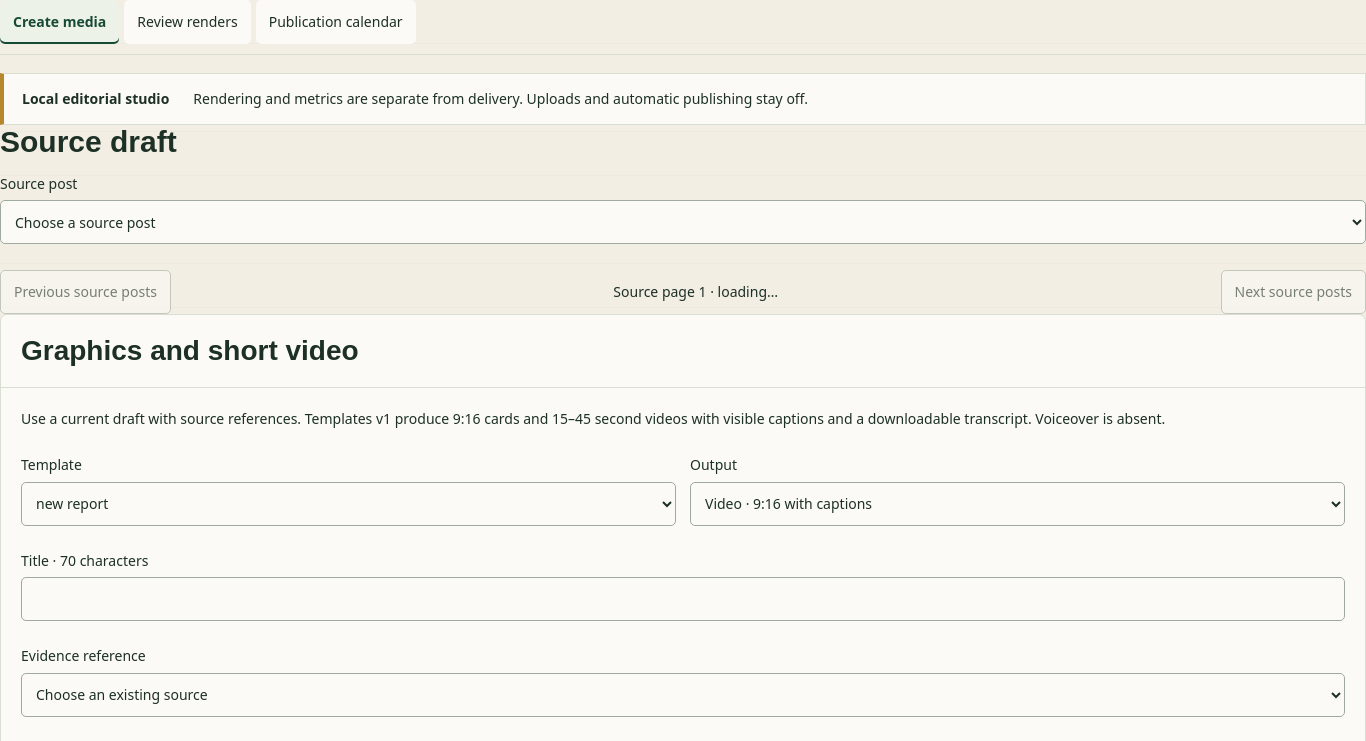
Test: independent: wrong hash, mime and non-ready asset excluded
Click the button "Review renders". click: (188, 22)
box: [124,0,251,44]
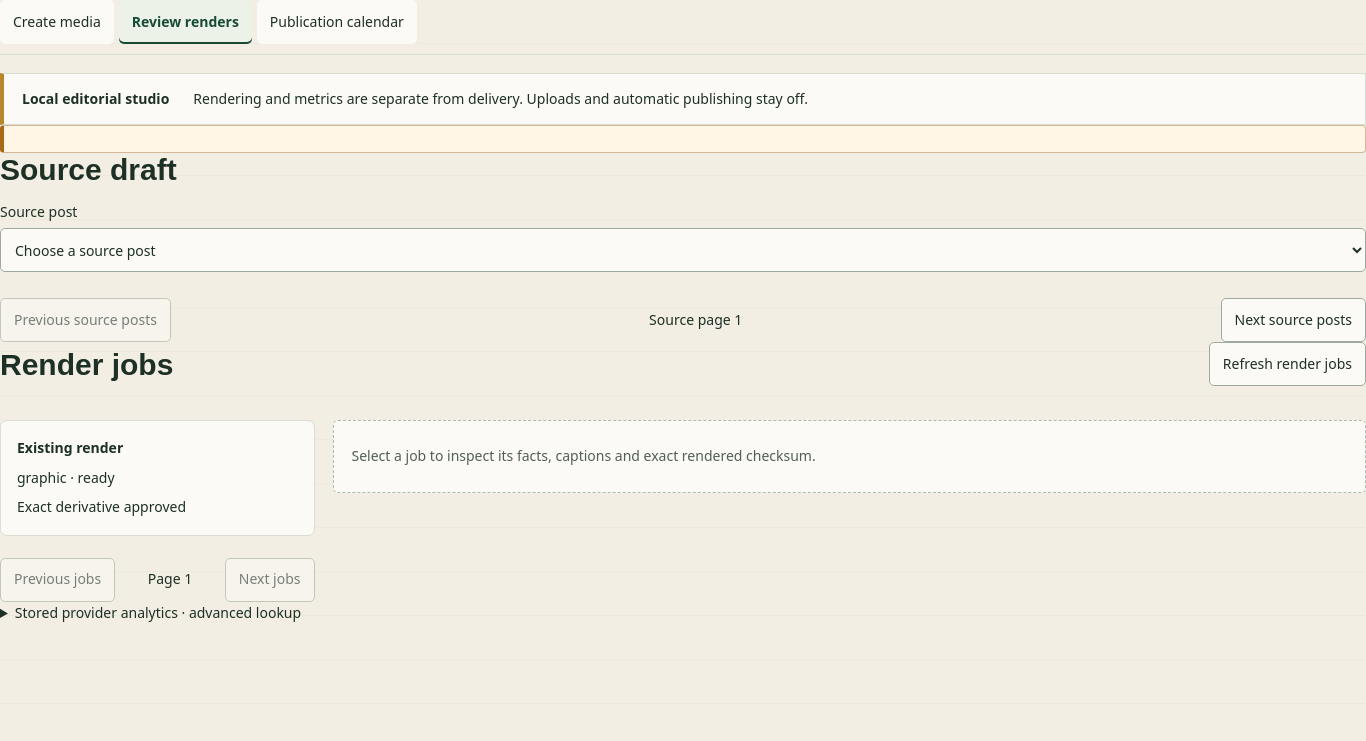
Click the button "Existing render graphic · ready Exact derivative approved". click: (70, 448)
box: [0,420,314,536]
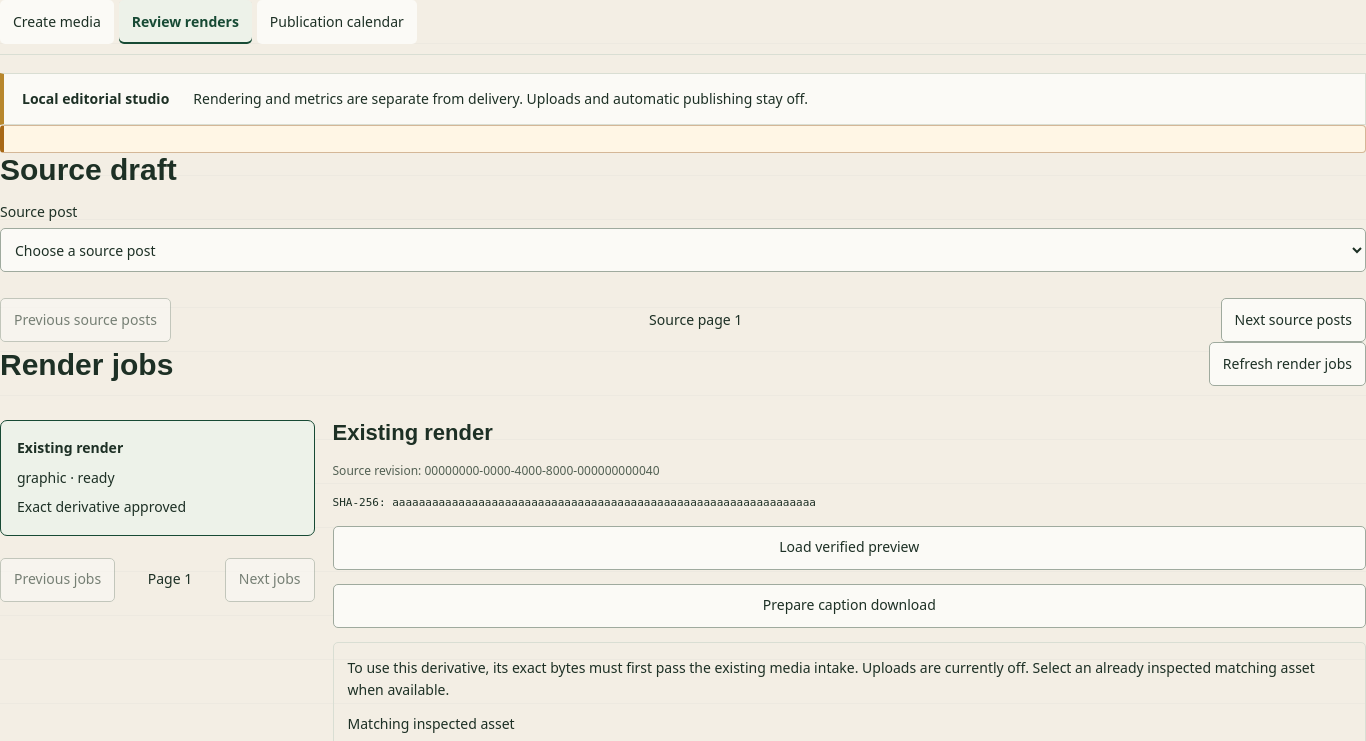
Click the button "Next source posts". click: (1293, 320)
box: [1220,298,1365,342]
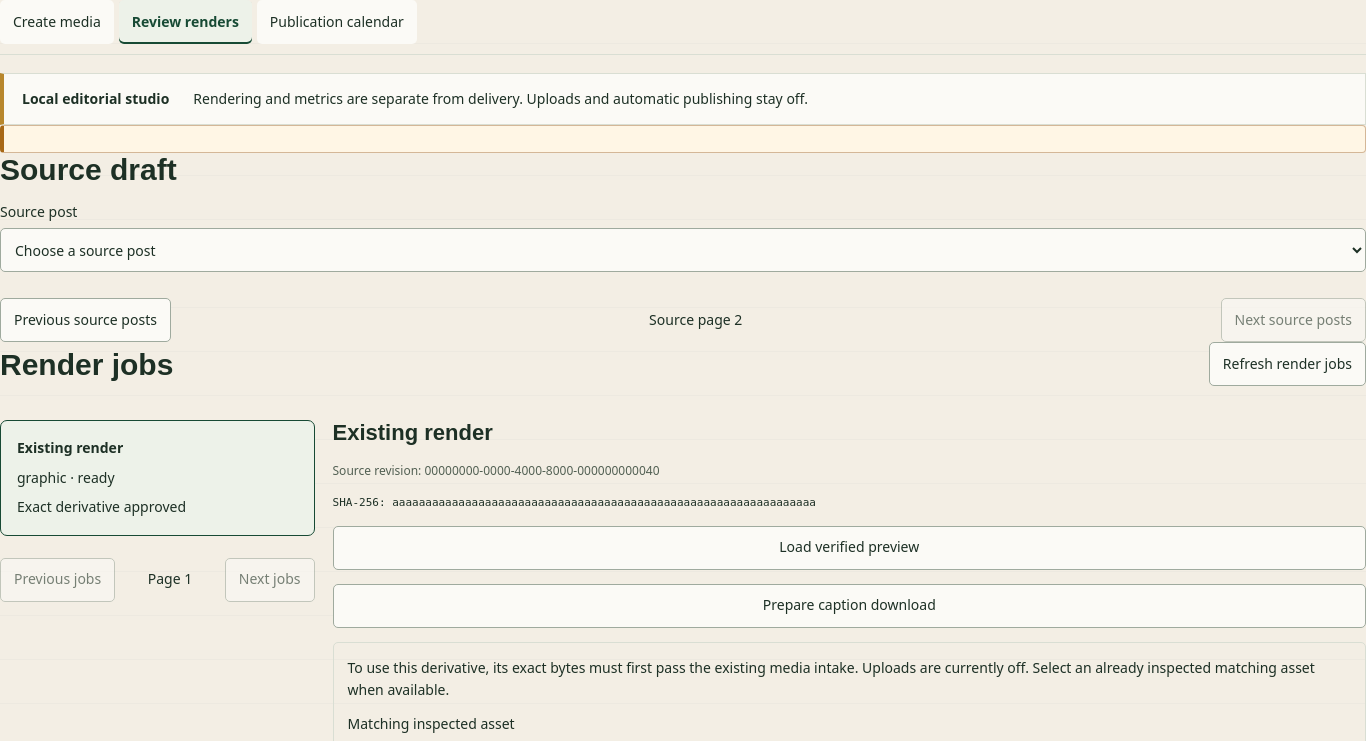
Select "Older source" in the dropdown labelled "Source post". click: (683, 250)
box: [0,228,1365,272]
(page scrolled)
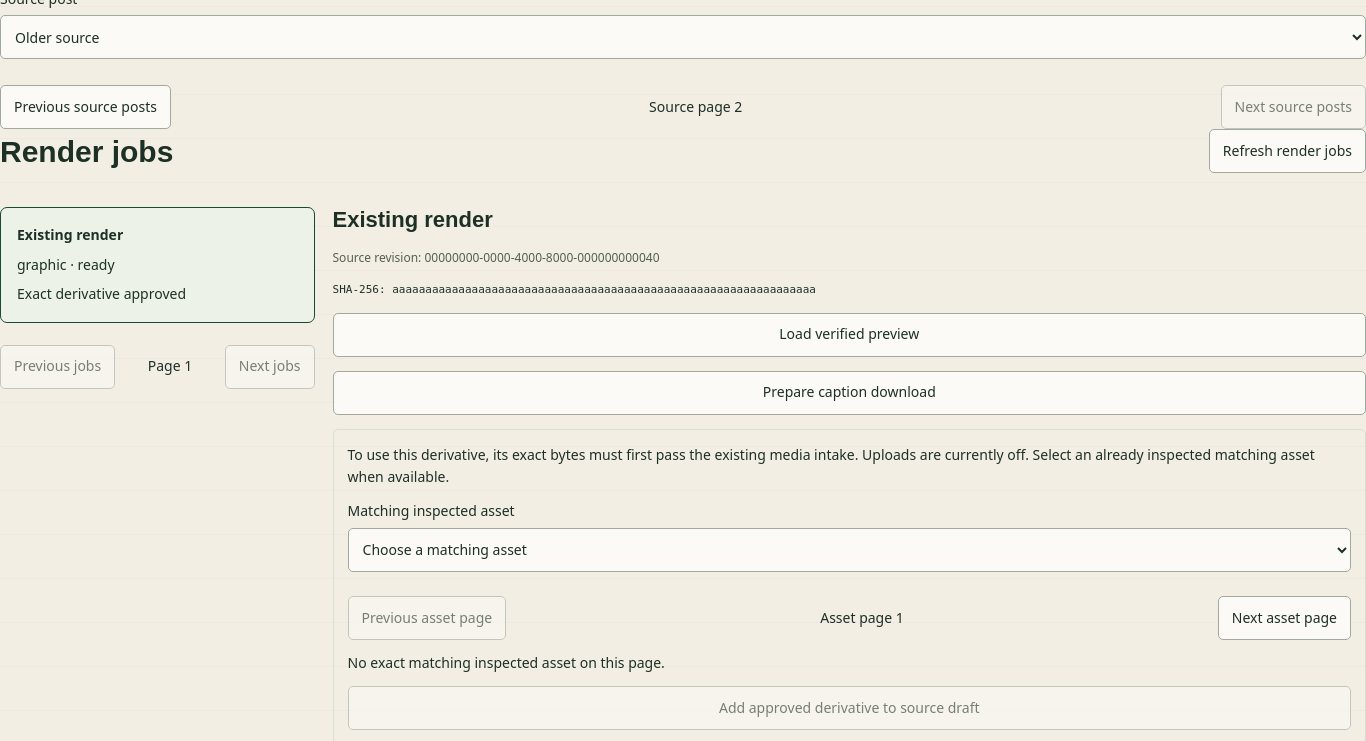
Click the button "Next asset page". click: (1284, 618)
box: [1218,596,1351,640]
(page scrolled)
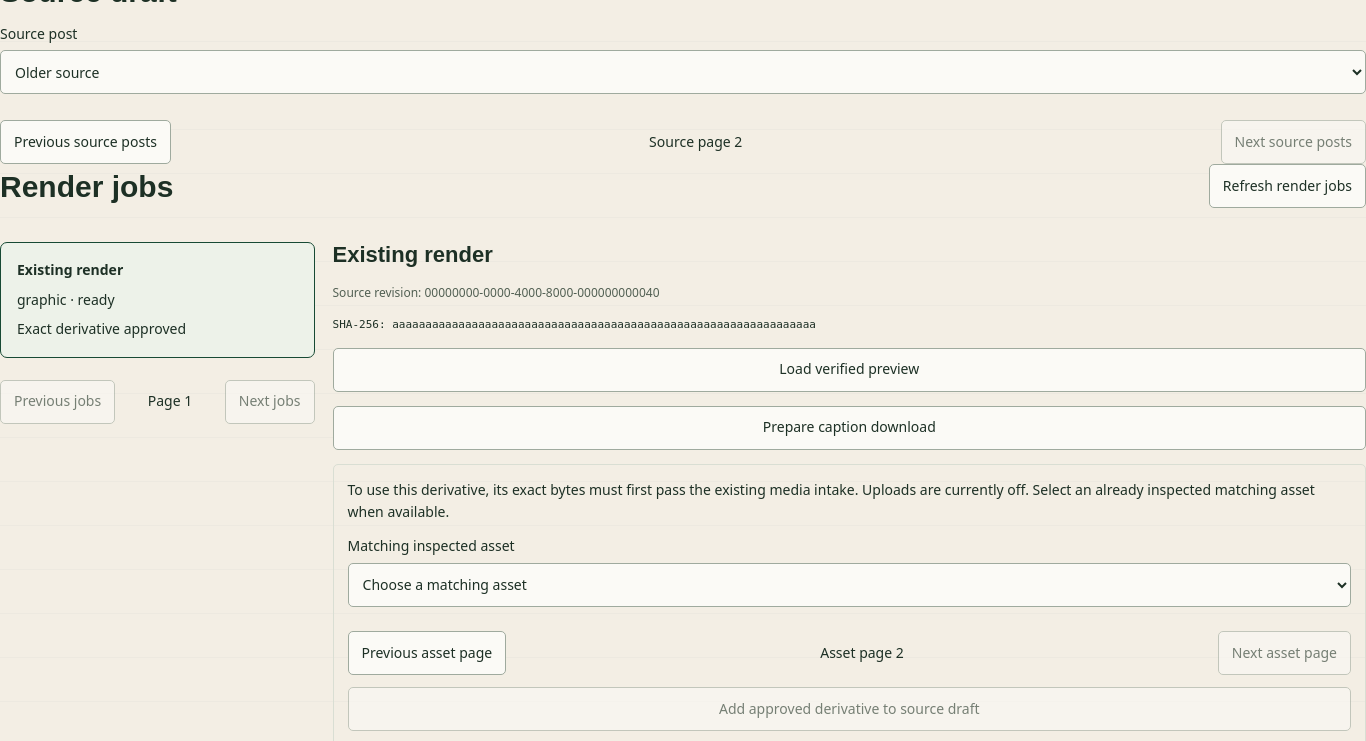
Select "Older exact.png" in the dropdown labelled "Matching inspected asset". click: (849, 585)
box: [348,563,1351,607]
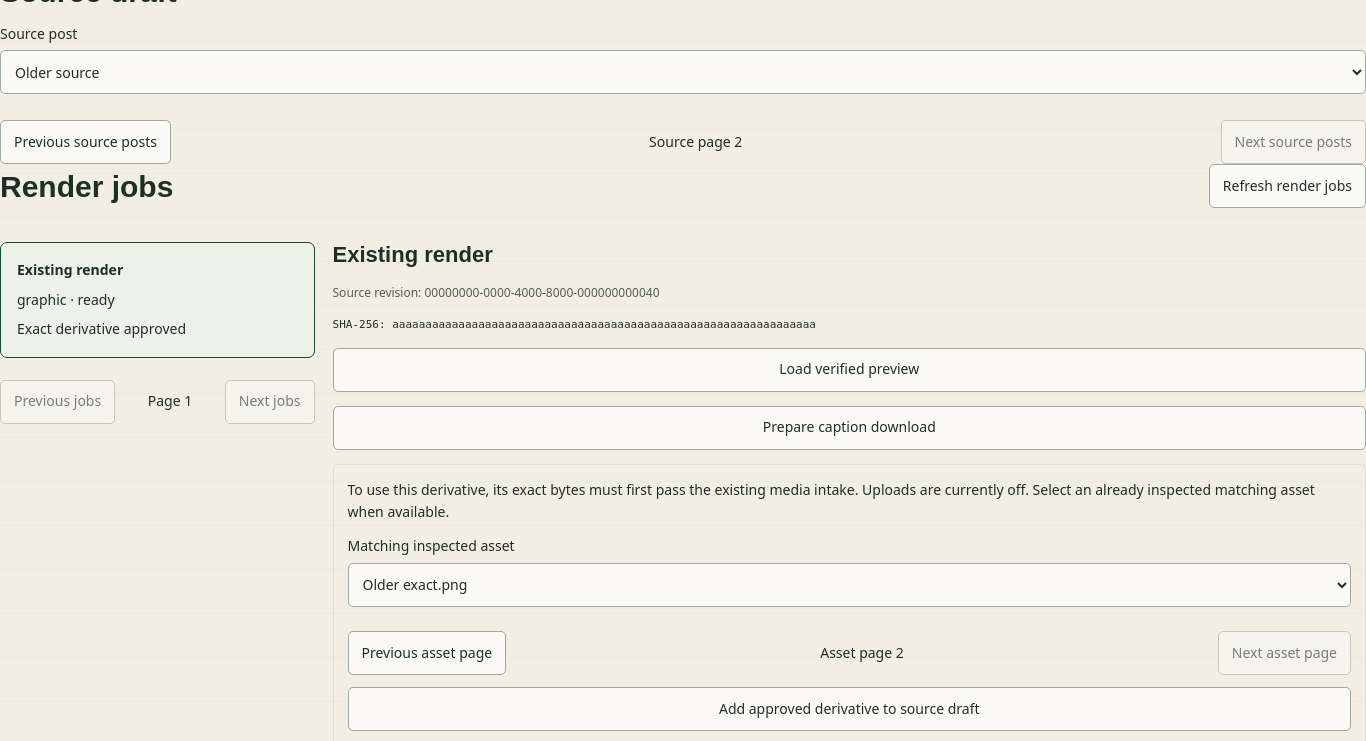
Check: the button "Add approved derivative to source draft" is enabled, box [348,687,1351,731]
